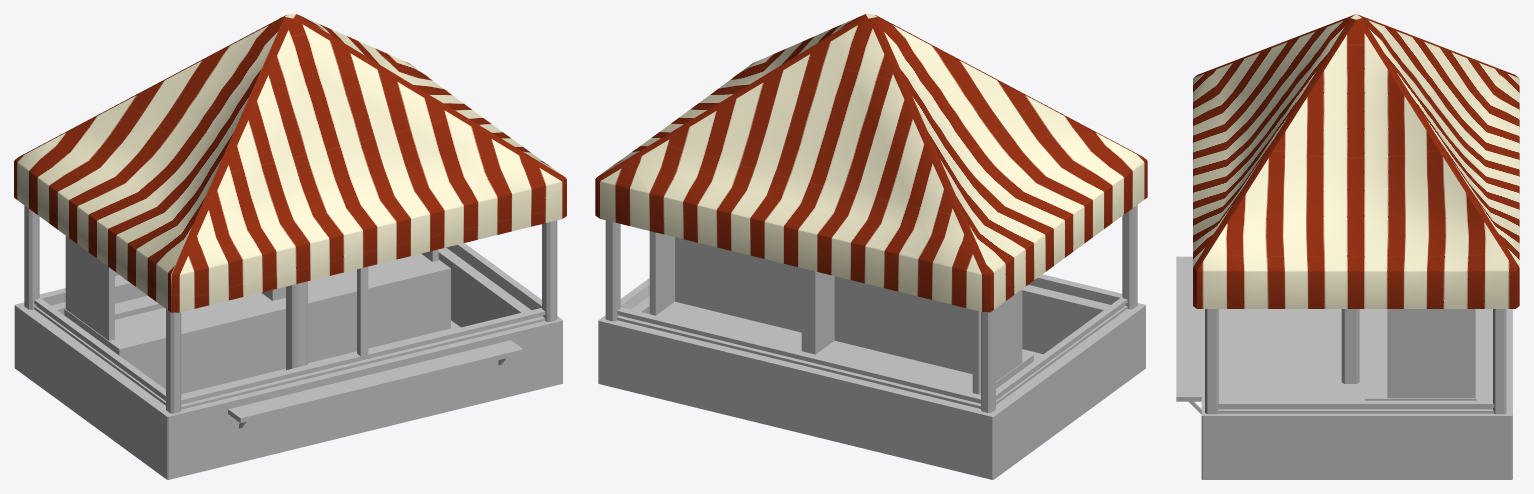
File: GameBooth1 (1).FBX
3 renders of one model, left to right at view 1: azimuth 30°, elevation 25°; view 2: azimuth 150°, elevation 25°; view 3: azimuth 270°, elevation 25°, orthographic.
Visible parts, largest first — view 1: Top1, Base, Game003, Mod1; view 2: Top1, Base, Game003; view 3: Top1, Base, Game003, Mod1.
Boxes of the visible parts, x1,y1,x2,y2 form: Top1: (14,14,566,369); Base: (14,205,562,479); Game003: (64,236,450,393); Mod1: (228,340,523,428); Top1: (595,14,1147,312); Base: (598,205,1145,479); Game003: (649,231,1033,394); Top1: (1193,14,1519,383); Base: (1201,309,1512,479); Game003: (1364,309,1476,400); Mod1: (1176,256,1201,414).
Size of the model in its own units: 582 by 505 by 430.
